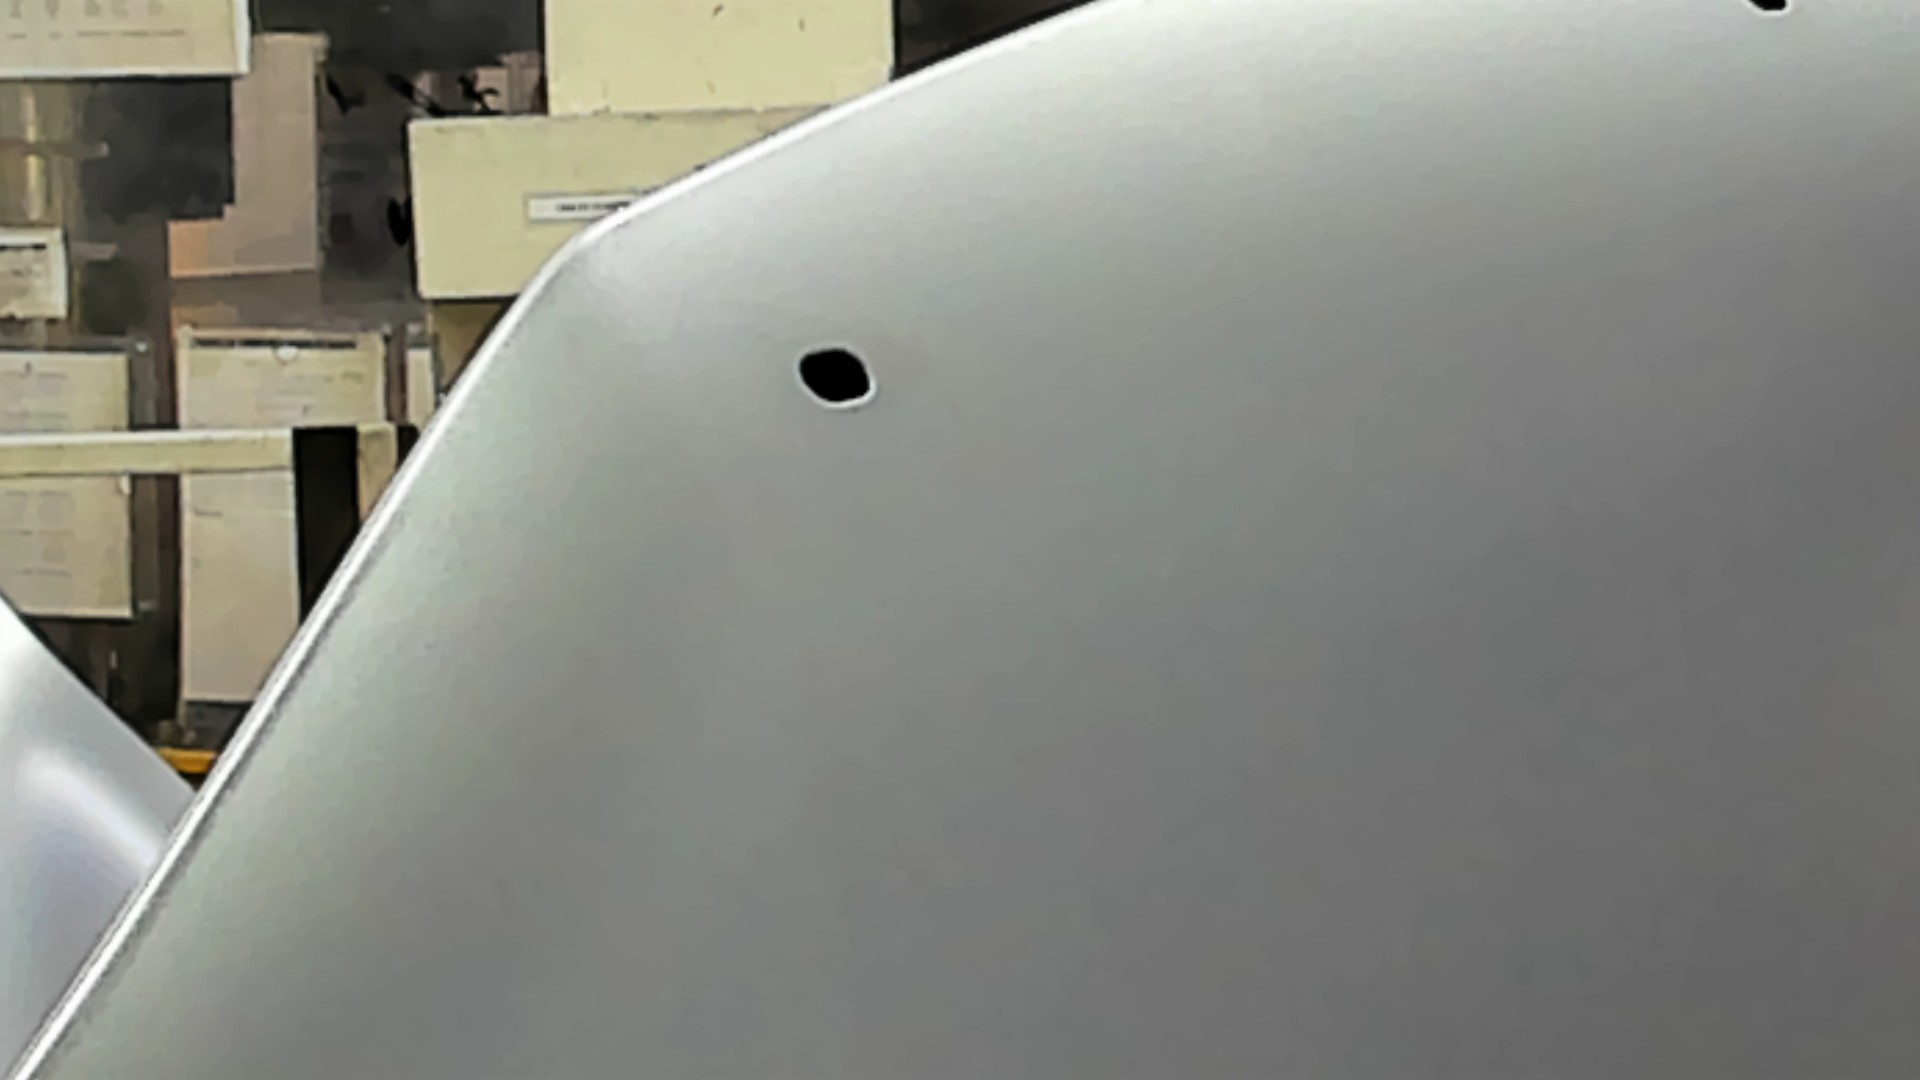amorfo: (791, 342, 876, 409)
capo: (975, 83, 1920, 1080)
